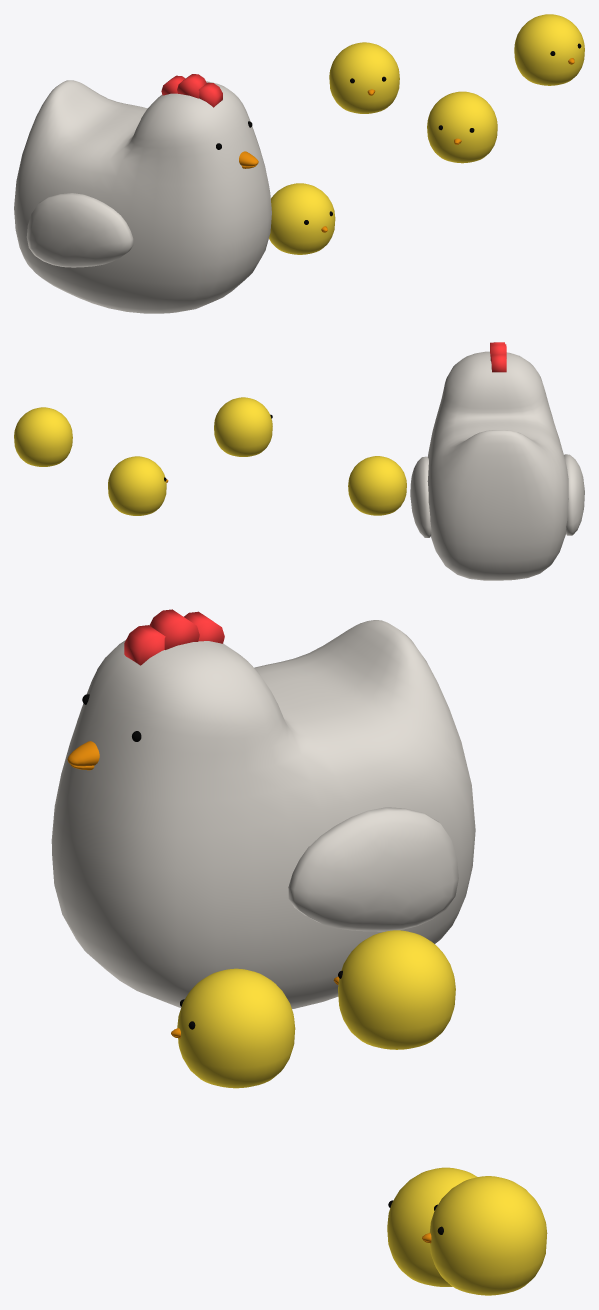
Rendered from uploads_files_2493359_Chickens.fbx.
3 renders of one model, top to bottom at view 1: azimuth 30°, elevation 25°; view 2: azimuth 150°, elevation 25°; view 3: azimuth 270°, elevation 25°, orthographic. The views are drawn at different scales.
Parts seen in each view (by area): view 1: Hen, WingR, Chick4, Chick3, Chick2, Chick1, Gobble; view 2: Hen, Chick1, Chick4, Chick2, Chick3, WingL, WingR, Gobble; view 3: Hen, WingL, Chick2, Chick4, Chick1, Chick3, Gobble.
Boxes of the visible parts, left/top/right/bottom form: Hen: left=14, top=80, right=271, bottom=313; WingR: left=26, top=193, right=133, bottom=267; Chick4: left=514, top=14, right=584, bottom=85; Chick3: left=427, top=91, right=497, bottom=163; Chick2: left=329, top=42, right=399, bottom=113; Chick1: left=269, top=183, right=335, bottom=254; Gobble: left=161, top=74, right=222, bottom=107; Hen: left=427, top=351, right=568, bottom=580; Chick1: left=348, top=456, right=406, bottom=515; Chick4: left=14, top=407, right=72, bottom=466; Chick2: left=214, top=397, right=272, bottom=456; Chick3: left=108, top=456, right=166, bottom=515; WingL: left=410, top=456, right=431, bottom=537; WingR: left=564, top=454, right=584, bottom=535; Gobble: left=490, top=342, right=506, bottom=372; Hen: left=51, top=620, right=475, bottom=1008; WingL: left=288, top=807, right=458, bottom=931; Chick2: left=338, top=930, right=455, bottom=1049; Chick4: left=429, top=1176, right=547, bottom=1295; Chick1: left=177, top=968, right=295, bottom=1088; Chick3: left=387, top=1167, right=477, bottom=1286; Gobble: left=124, top=609, right=224, bottom=665.
Size of what is drawn, in the model's own units: 210 by 76.97 by 88.58.
